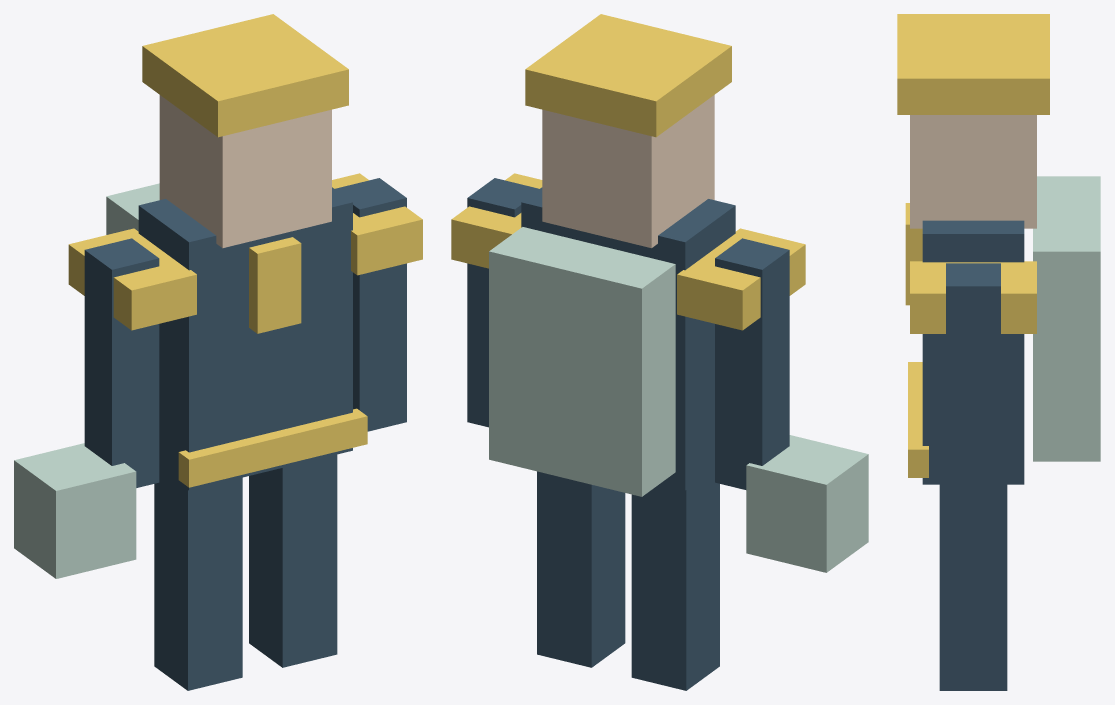
The model's file is 07_noor_ashvein_operator_from_transit.glb.
3 views of the same model, side by side, from view 1: azimuth 30°, elevation 25°; view 2: azimuth 150°, elevation 25°; view 3: azimuth 270°, elevation 25° (orthographic).
Parts seen in each view (by area): view 1: Noor Ashvein, Operator from Transit; view 2: Noor Ashvein, Operator from Transit; view 3: Noor Ashvein, Operator from Transit.
Boxes of the visible parts, x1=… form: Noor Ashvein, Operator from Transit: x1=14, y1=14, x2=422, y2=690; Noor Ashvein, Operator from Transit: x1=451, y1=14, x2=868, y2=690; Noor Ashvein, Operator from Transit: x1=897, y1=14, x2=1100, y2=690.
Bounding box in the file's own units: 1.06 × 1.68 × 0.5096.
